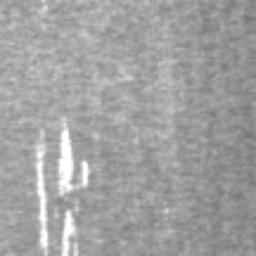White rust: (57, 115, 90, 196), (34, 128, 49, 256), (61, 210, 80, 256)
